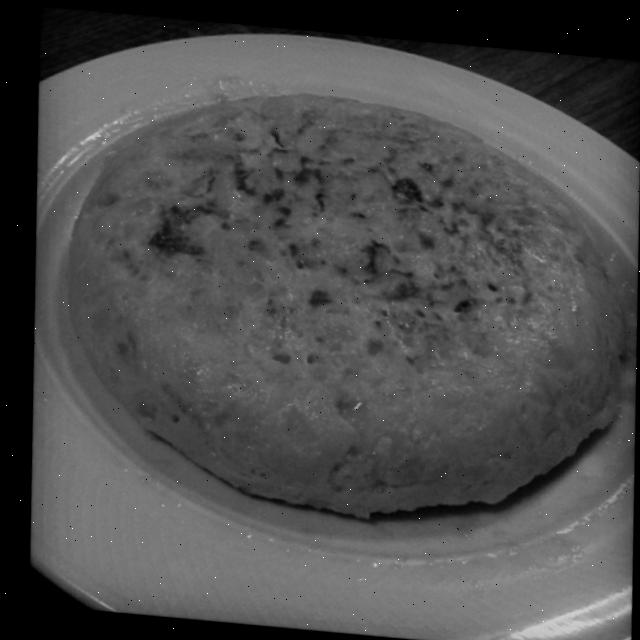面包点心: (32, 52, 640, 566)
